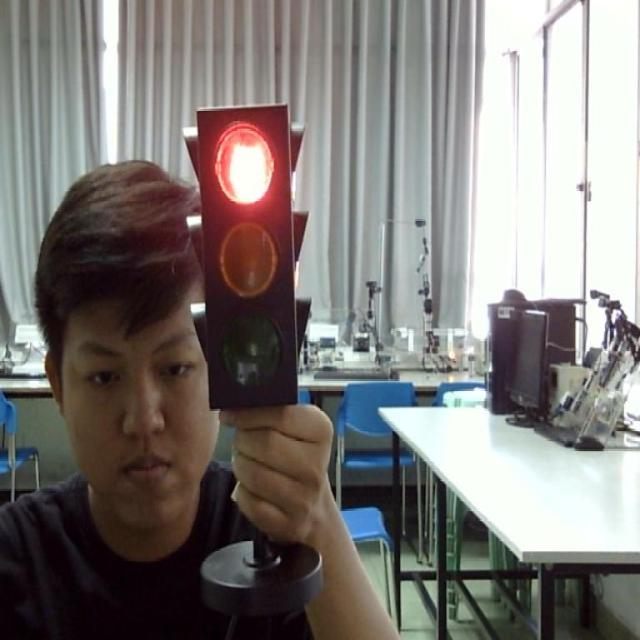red light: (208, 113, 288, 215)
